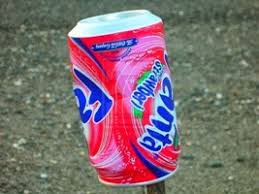metal: (66, 8, 183, 186)
